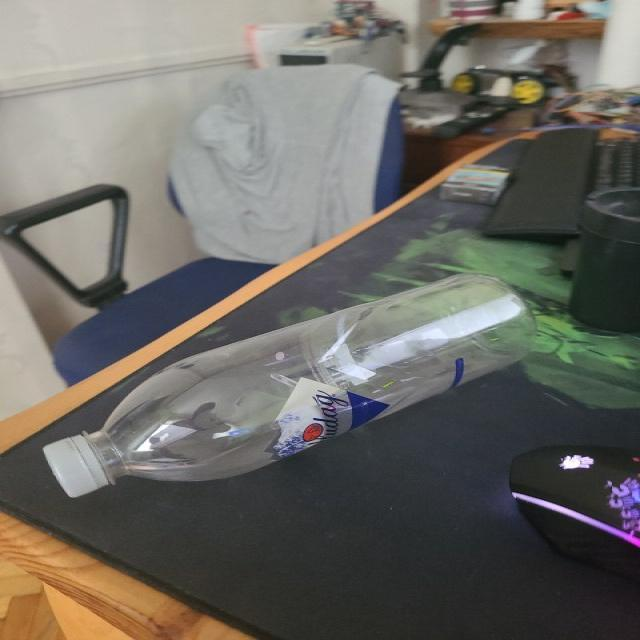bottle: (42, 274, 537, 499)
